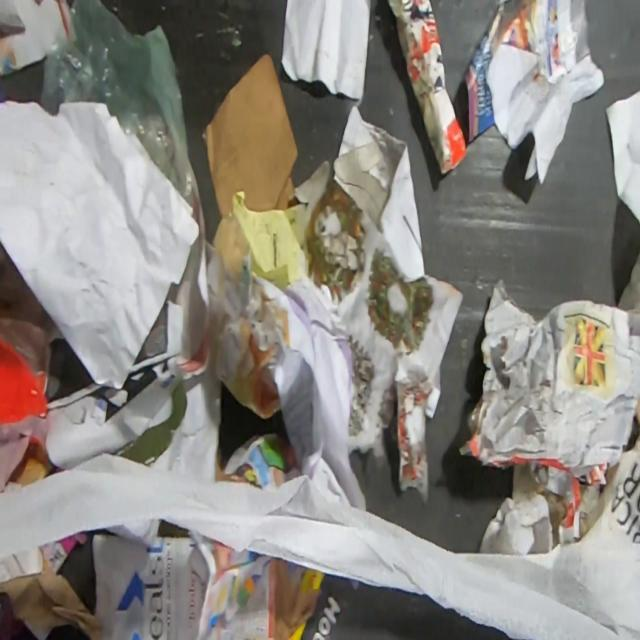cardboard: (200, 52, 300, 220), (0, 572, 104, 640)
rigid_plastic: (0, 330, 48, 425)
soft_plastic: (38, 0, 194, 211)
